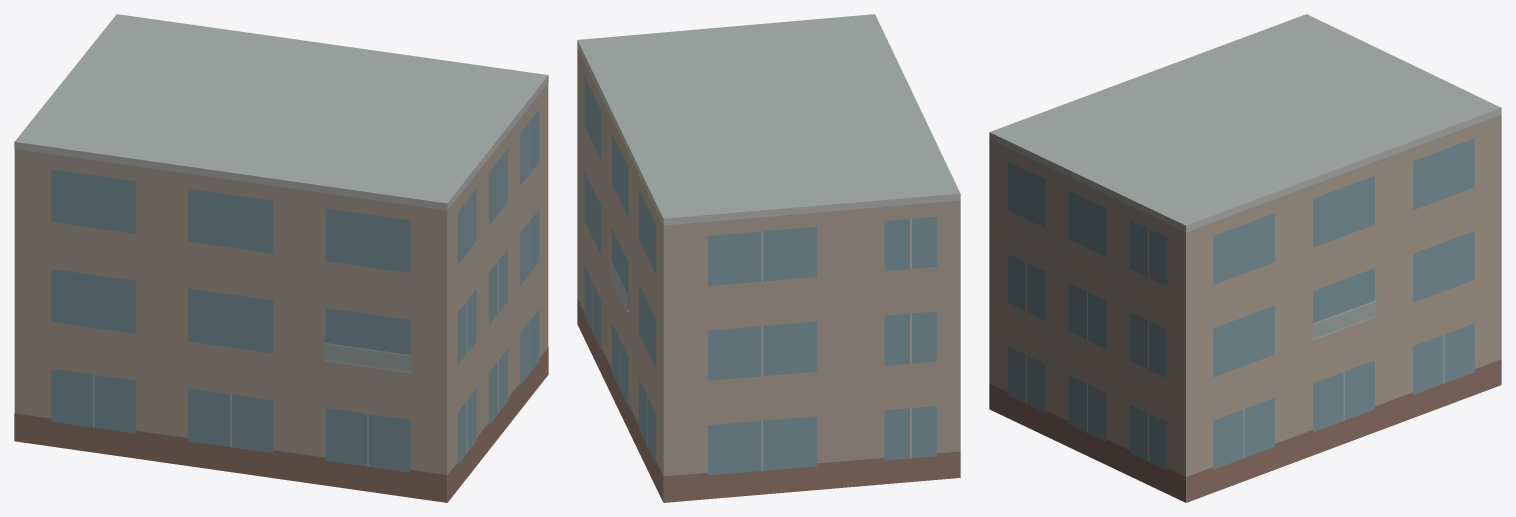
Rendered from survey-upis-32970702.glb.
The picture shows the model from 3 angles, left to right: view 1: azimuth 30°, elevation 25°; view 2: azimuth 150°, elevation 25°; view 3: azimuth 270°, elevation 25°; orthographic projection. The views are drawn at different scales.
Visible parts, largest first — view 1: survey-upis-32970702.tmp; view 2: survey-upis-32970702.tmp; view 3: survey-upis-32970702.tmp.
Part boxes in pixels (x1,y1,x2,y2): survey-upis-32970702.tmp: (14,14,548,502); survey-upis-32970702.tmp: (577,14,960,502); survey-upis-32970702.tmp: (989,14,1501,502).
Bounding box in the file's own units: 16.73 × 10.2 × 17.1.
